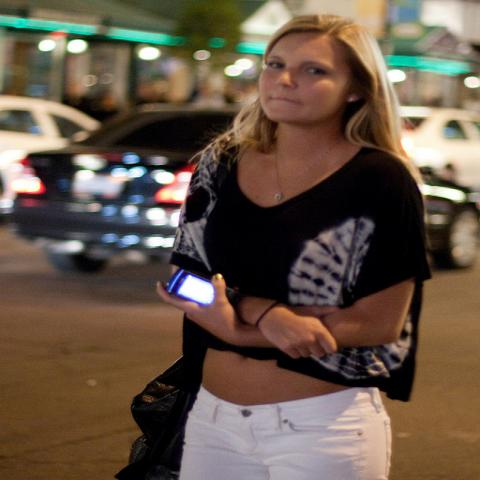car: (2, 104, 243, 276), (402, 103, 479, 272), (0, 95, 106, 161)
